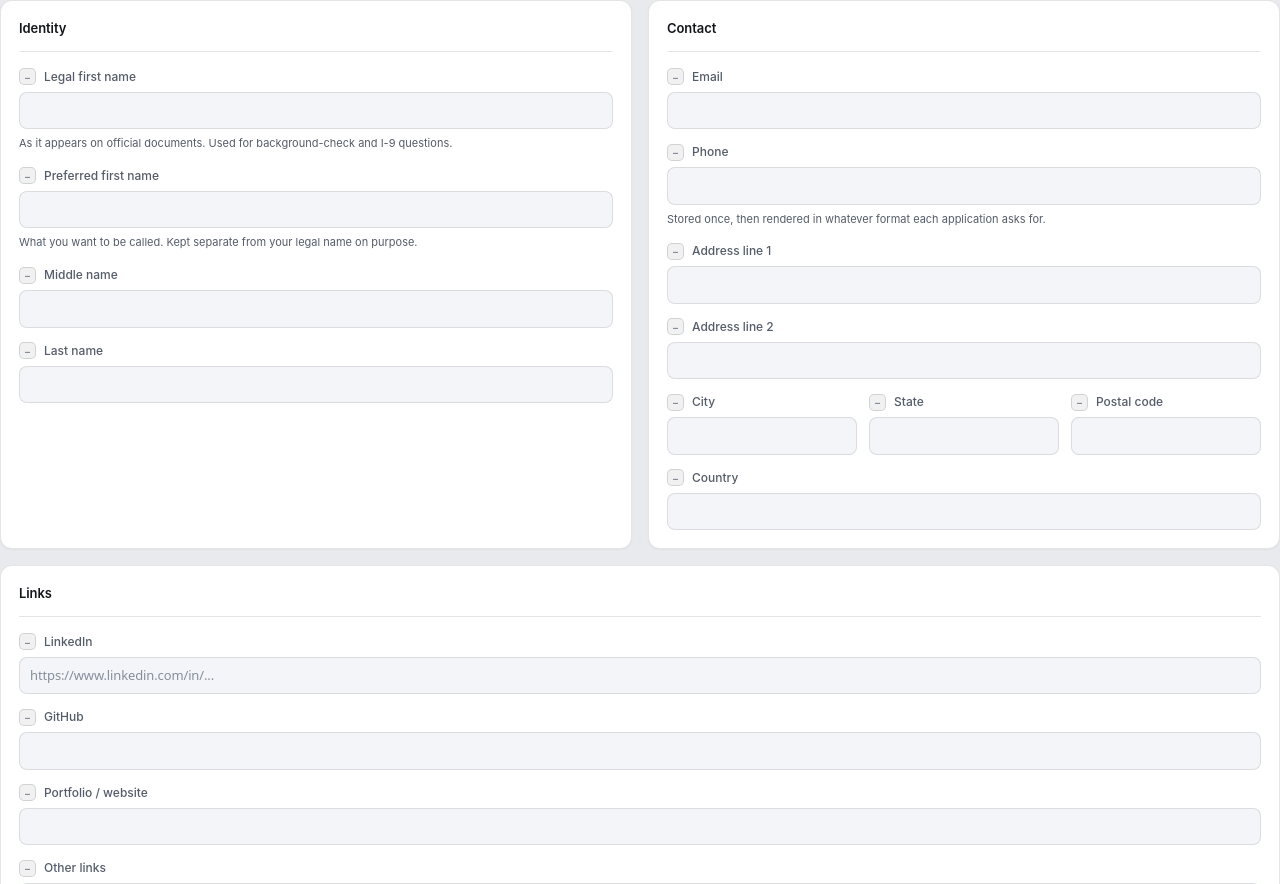
Test: profile editor - nothing blank or malformed is "verified" › refuses to verify a malformed email, and keeps what was typed
Type "nitu@@example" into the field labelled "– Email" at (964, 110), box [667,92,1261,129]
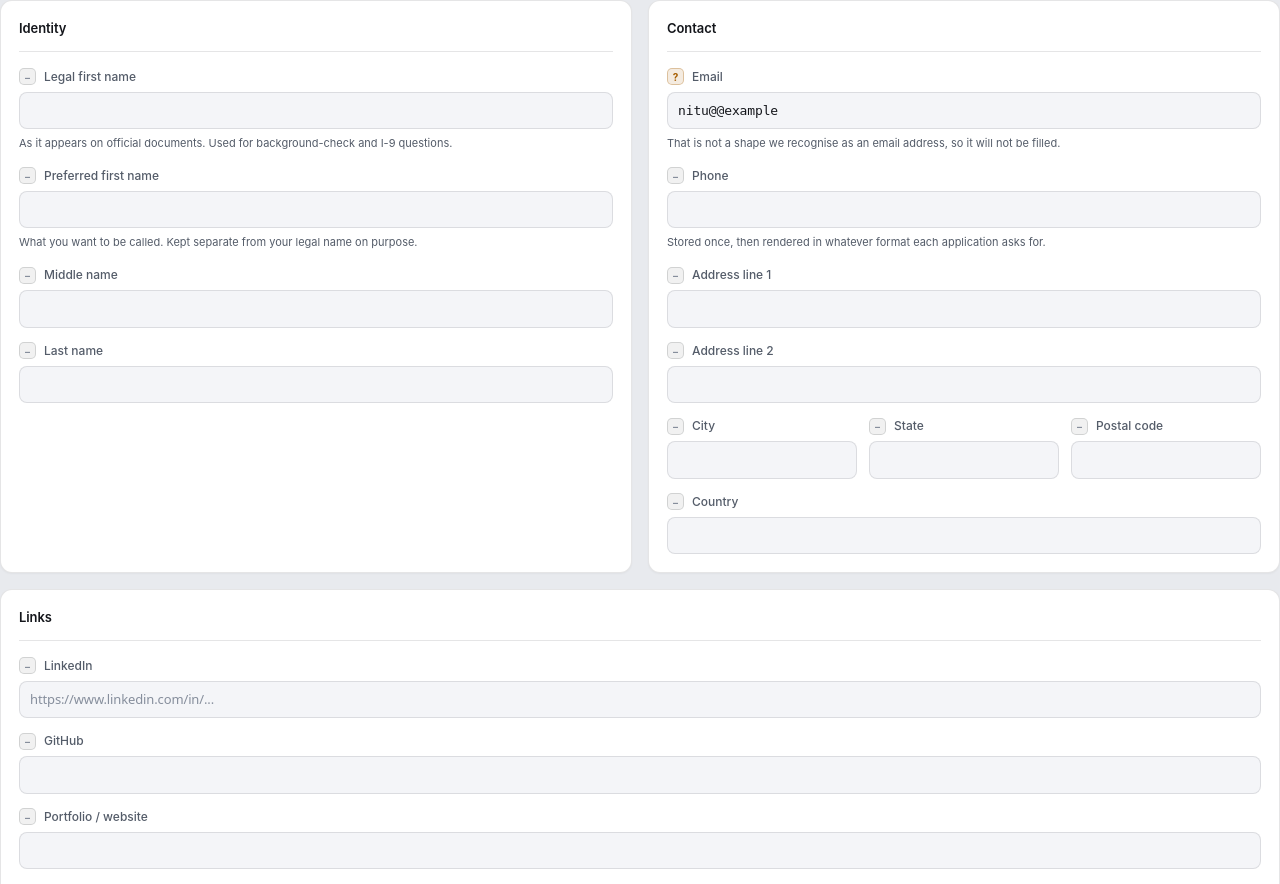
Result: the text "not a shape we recognise as an email" is shown at [667,136,1060,150]
